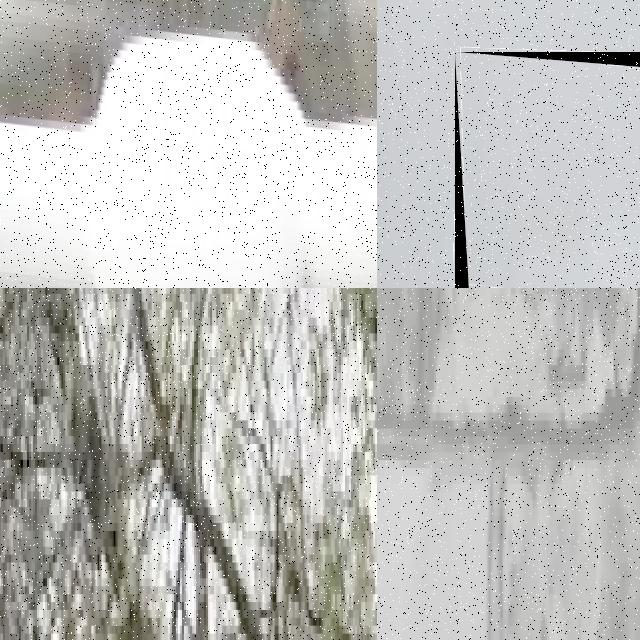drone: (0, 0, 377, 288), (455, 52, 640, 288)
